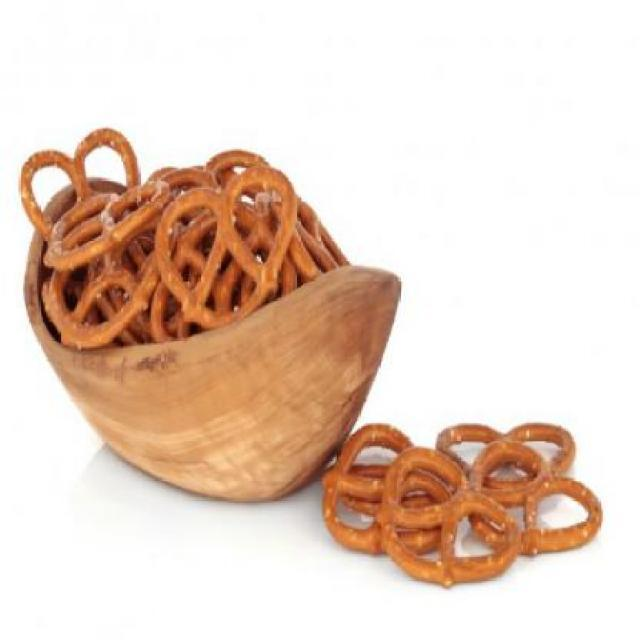Salatini packaged: (12, 124, 356, 343), (314, 420, 608, 588)
